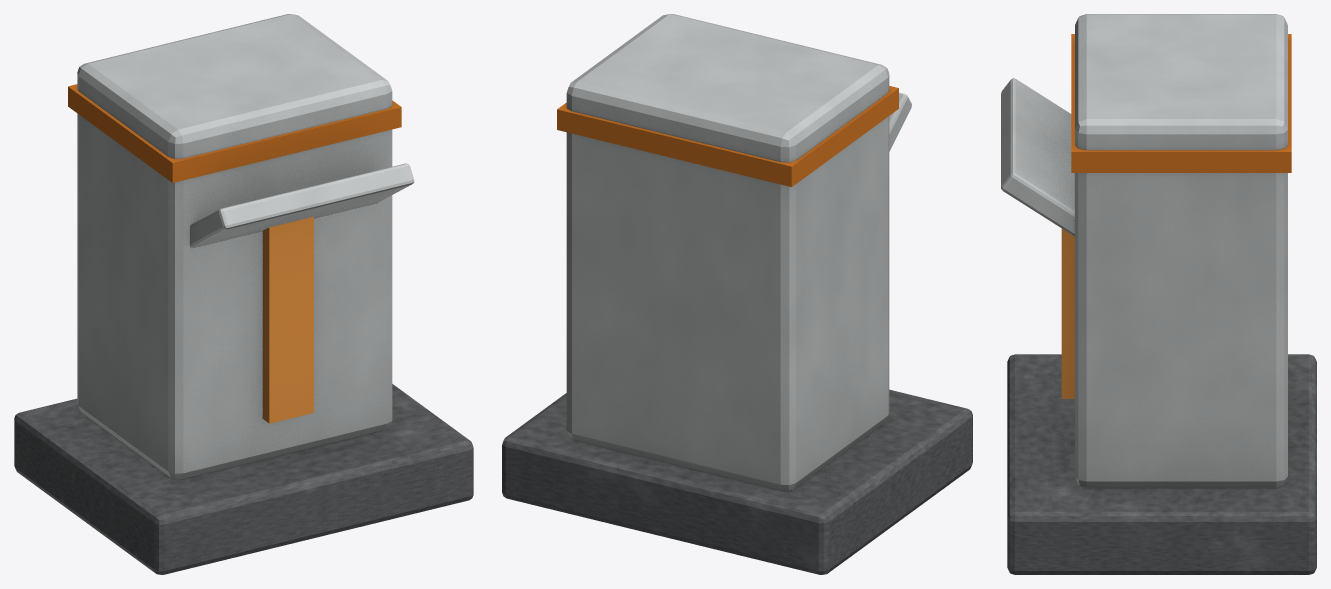
Rendered from buff_device.glb.
3 views of the same model, side by side, from view 1: azimuth 30°, elevation 25°; view 2: azimuth 150°, elevation 25°; view 3: azimuth 270°, elevation 25° (orthographic). The views are drawn at different scales.
Parts seen in each view (by area): view 1: buff_device; view 2: buff_device; view 3: buff_device.
Part boxes in pixels (<box>): buff_device: <box>14,14,473,574</box>; buff_device: <box>502,14,972,574</box>; buff_device: <box>1001,14,1316,574</box>.
Size of the model in its own units: 1 by 1.22 by 0.816.
Materials: 4 (4 with a texture image).
